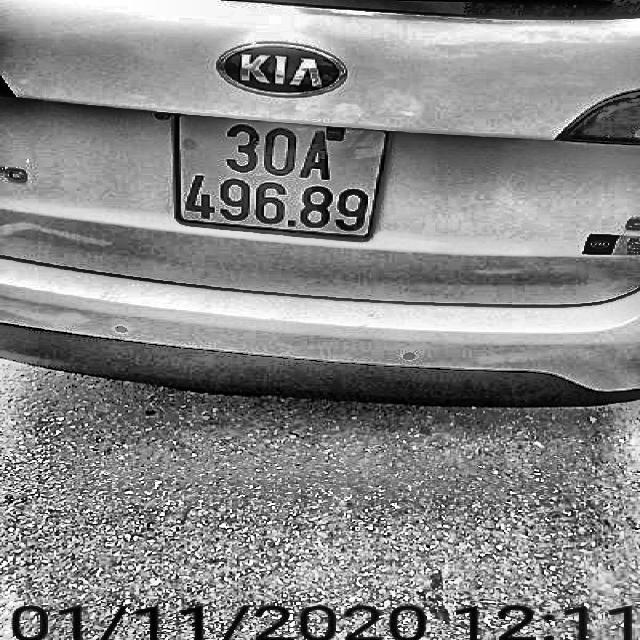plate: (166, 105, 393, 242)
